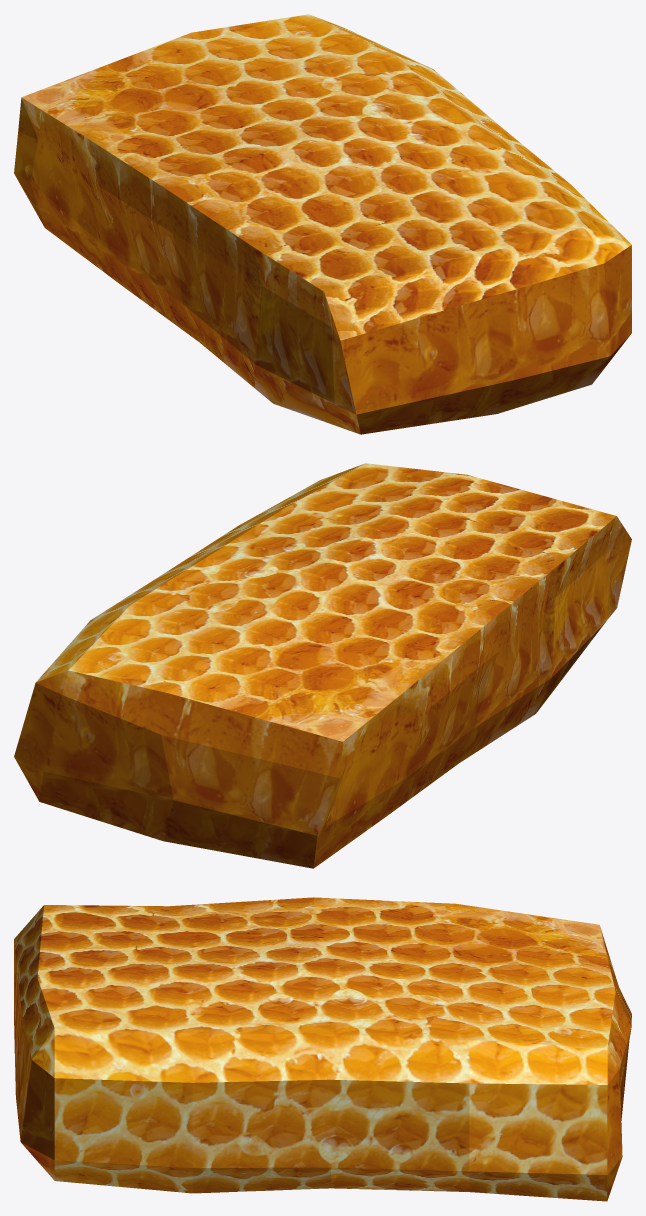
The picture shows the model from 3 angles, top to bottom: view 1: azimuth 30°, elevation 25°; view 2: azimuth 150°, elevation 25°; view 3: azimuth 270°, elevation 25°; orthographic projection. The views are drawn at different scales.
Visible parts, largest first — view 1: Cube; view 2: Cube; view 3: Cube.
Boxes of the visible parts, x1,y1,x2,y2 form: Cube: (14,14,631,434); Cube: (14,463,631,868); Cube: (14,897,631,1201).
Size of the model in its own units: 0.6328 by 0.3015 by 1.01.
1 material, 1 textured.
